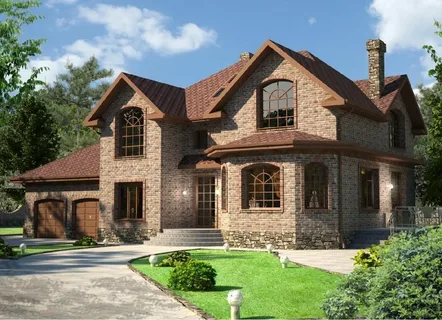private_hause: (21, 35, 421, 250)
